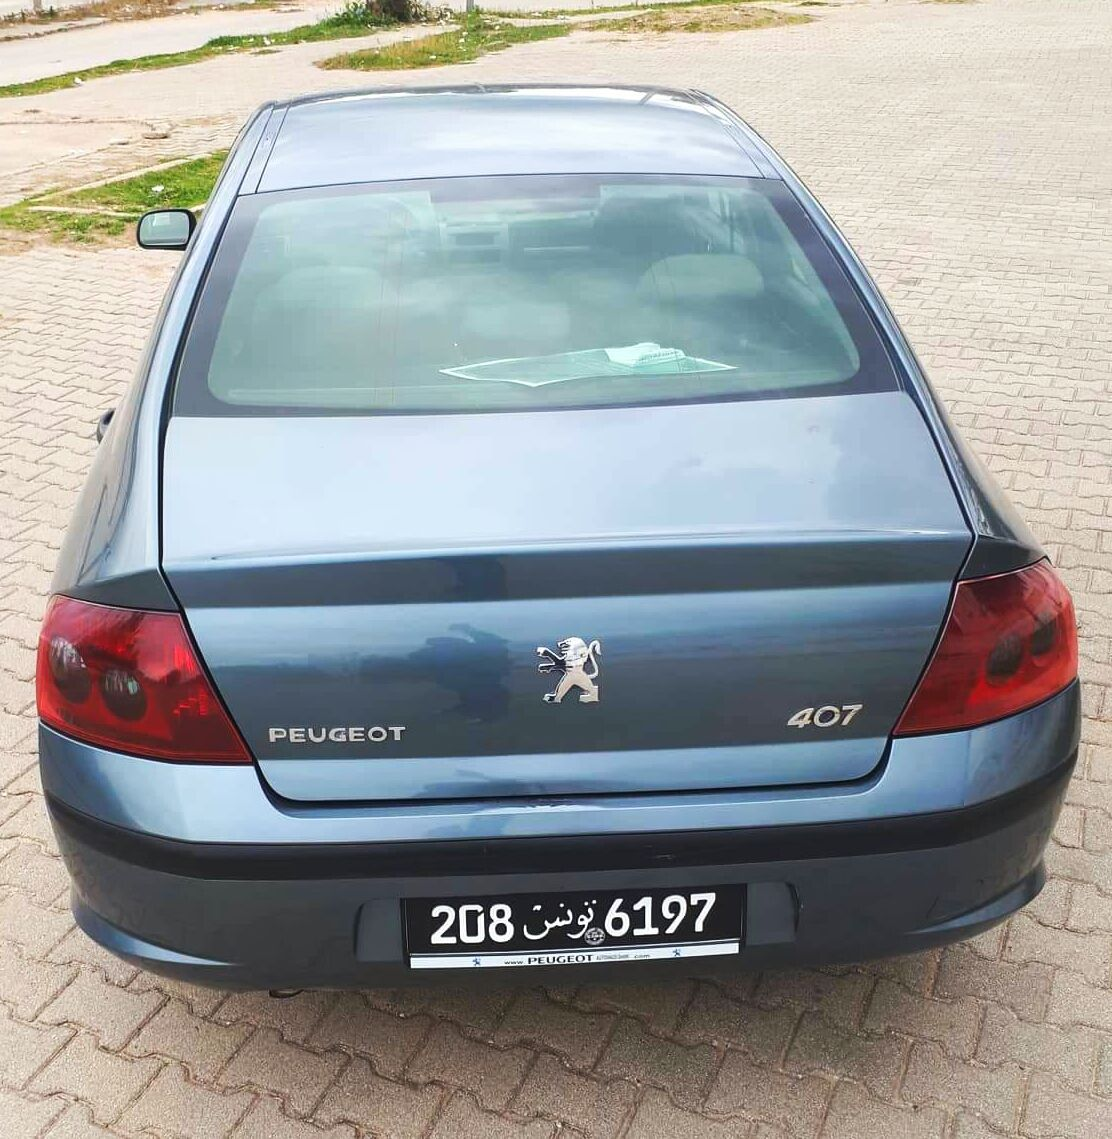LP: (407, 885, 748, 950)
